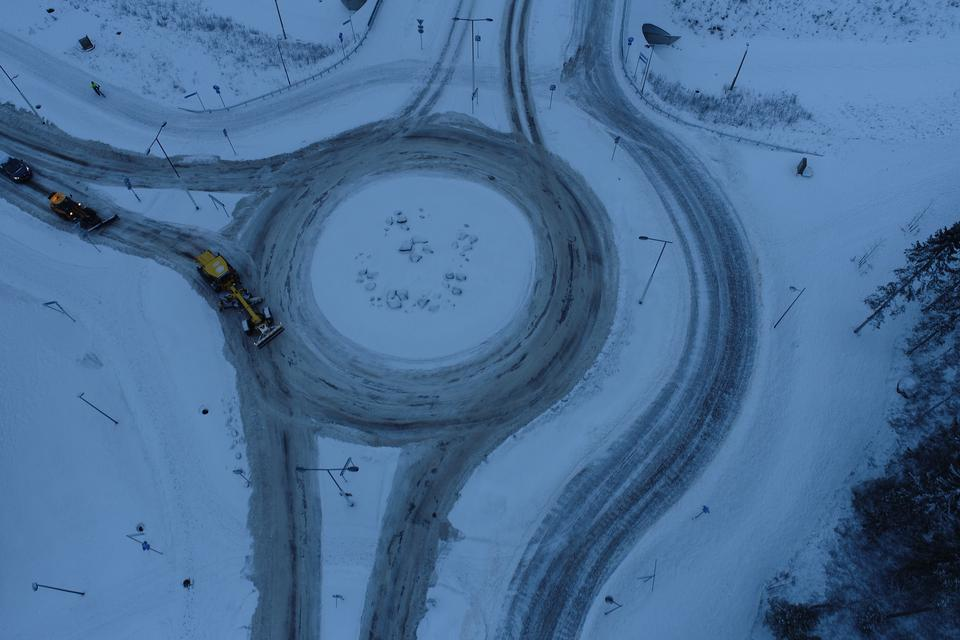intersection: (408, 46, 666, 107)
roundabout: (213, 112, 761, 524)
